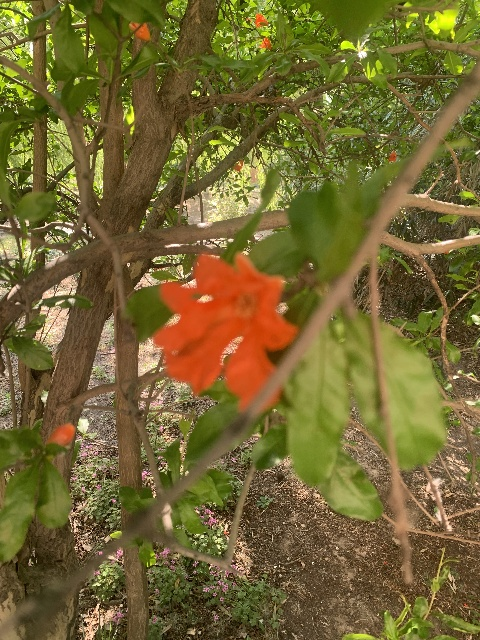bud: (46, 422, 74, 446)
flower: (152, 252, 298, 412), (129, 21, 150, 40), (253, 13, 268, 27), (260, 37, 271, 49), (233, 160, 243, 171), (388, 150, 396, 162)
